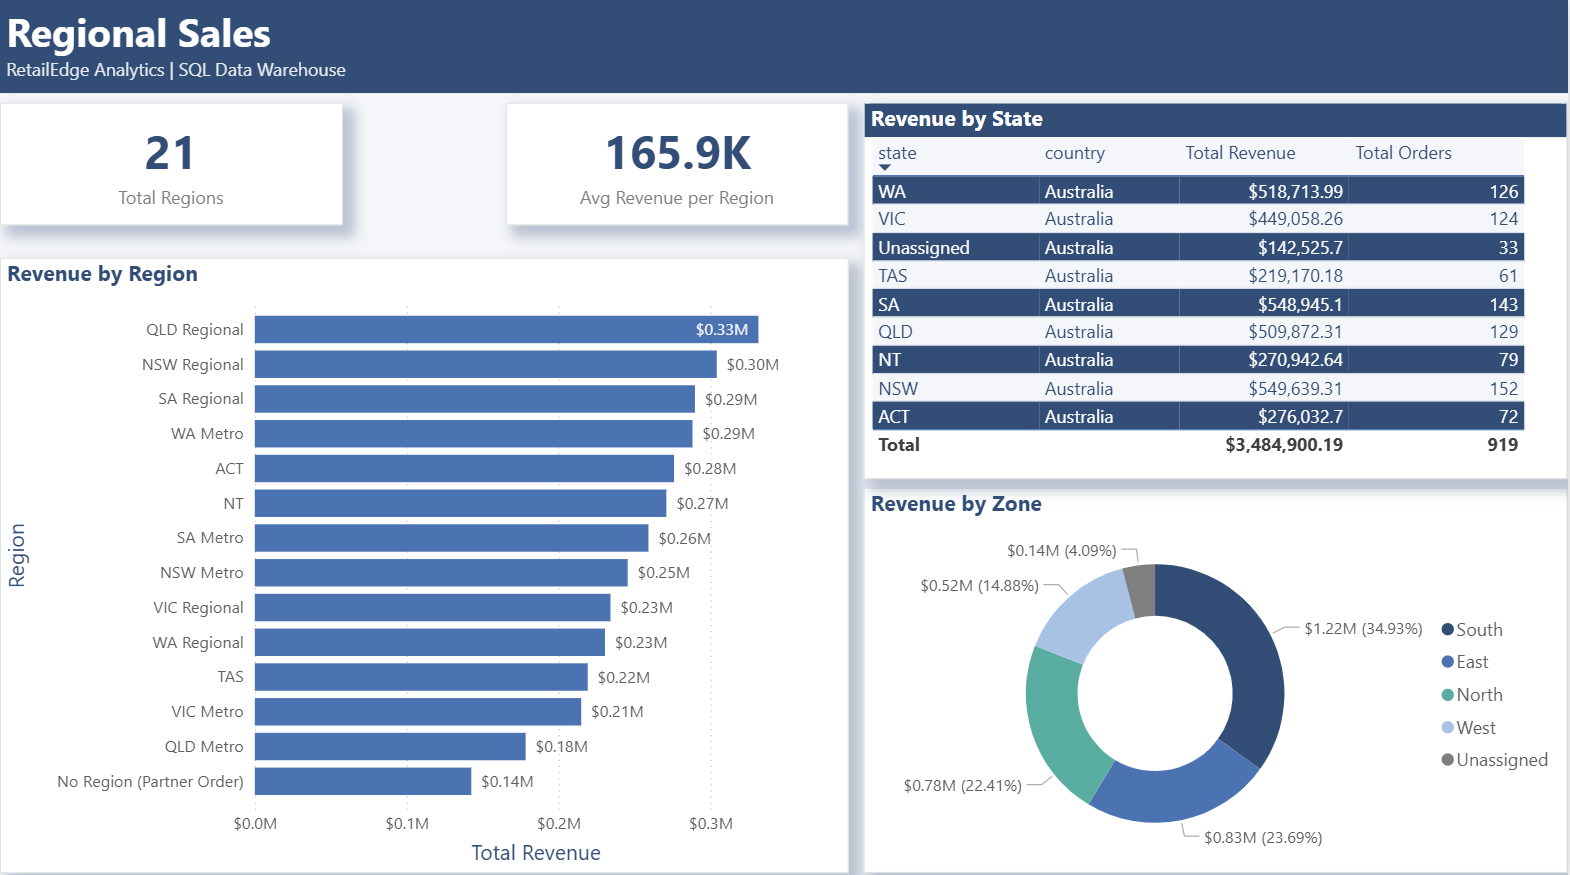

What the dashboard file says about the page in this screenshot:
{"tool":"powerbi","page":{"name":"Regional Sales","canvas":[1280,720],"ordinal":3},"visuals":[{"type":"textbox","box":[0,0,1279.8,76.6],"z":0},{"type":"card","fields":{"Values":["gold dim_customer.Total Regions"]},"box":[0,84.3,279.8,100],"z":1},{"type":"card","fields":{"Values":["gold dim_customer.Avg Revenue per Region"]},"box":[413.3,84.7,279.6,100],"z":2},{"type":"clusteredBarChart","title":" Revenue by Region","fields":{"Y":["gold fact_sales.Total Revenue"],"Category":["gold dim_region.region_name"]},"box":[0,211.2,692.9,502],"z":3},{"type":"donutChart","title":"Revenue by Zone","fields":{"Y":["gold fact_sales.Total Revenue"],"Category":["gold dim_region.zone"]},"box":[705.1,399,574.5,314.3],"z":4},{"type":"tableEx","title":"Revenue by State","fields":{"Values":["gold dim_region.state","gold dim_region.country","gold fact_sales.Total Revenue","gold fact_sales.Total Orders"]},"box":[705.1,84.7,574.5,307.1],"z":5}]}

Visuals, with their boxes in screenshot pixels (x1, y1, x2, y2), scaled from the page's 1280x720 canvas onto the 1570x875 screenshot:
textbox: (left=0, top=0, right=1569, bottom=93)
card - gold dim_customer.Total Regions: (left=0, top=102, right=343, bottom=224)
card - gold dim_customer.Avg Revenue per Region: (left=507, top=103, right=850, bottom=224)
" Revenue by Region" clusteredBarChart: (left=0, top=257, right=850, bottom=867)
"Revenue by Zone" donutChart: (left=865, top=485, right=1569, bottom=867)
"Revenue by State" tableEx: (left=865, top=103, right=1569, bottom=476)
